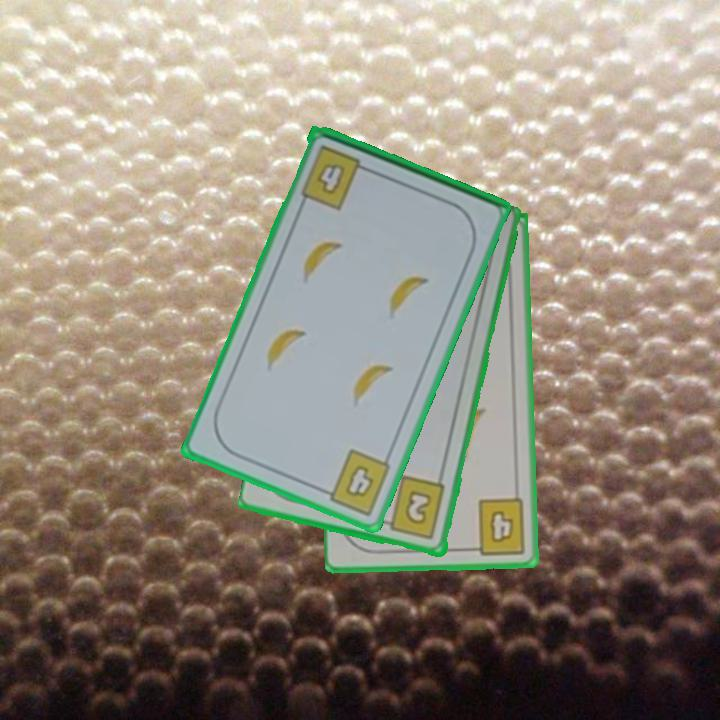2b: (378, 474, 448, 543)
4b: (316, 445, 394, 519), (297, 142, 374, 213), (465, 495, 529, 557)
